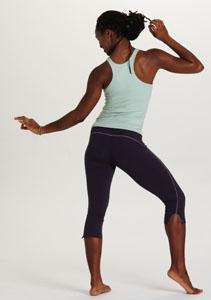C_W_pants: (79, 127, 194, 240)
C_tank top: (82, 50, 154, 131)
